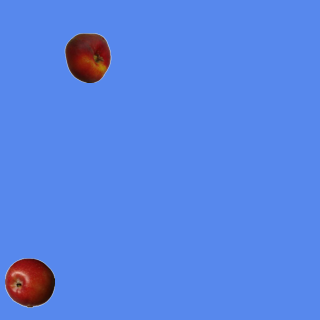Apple Braeburn: (4, 257, 54, 307)
Nectarine Flat: (62, 32, 112, 82)
